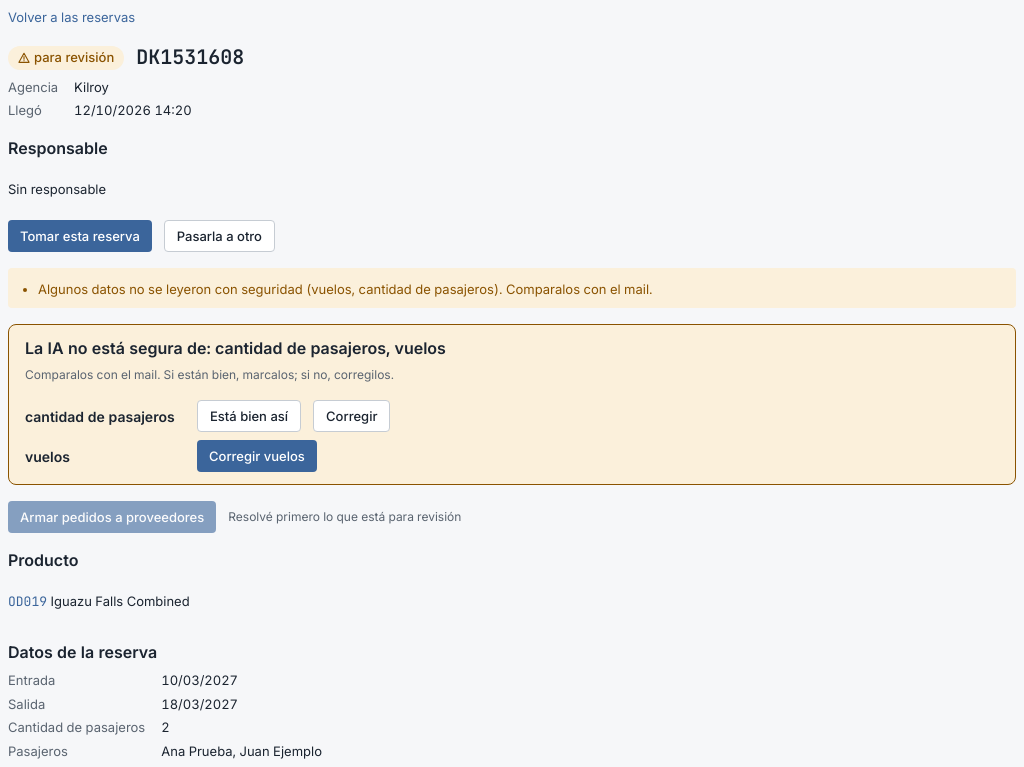
Test: M3-07 filas 4 y 5 — 'La IA no está segura de: …' › 'Está bien así' en pax lo saca de los dudosos; el 'Listo' dice por qué sigue para revisión
Click the button "Está bien así". click: (249, 416)
box: [197,400,301,432]
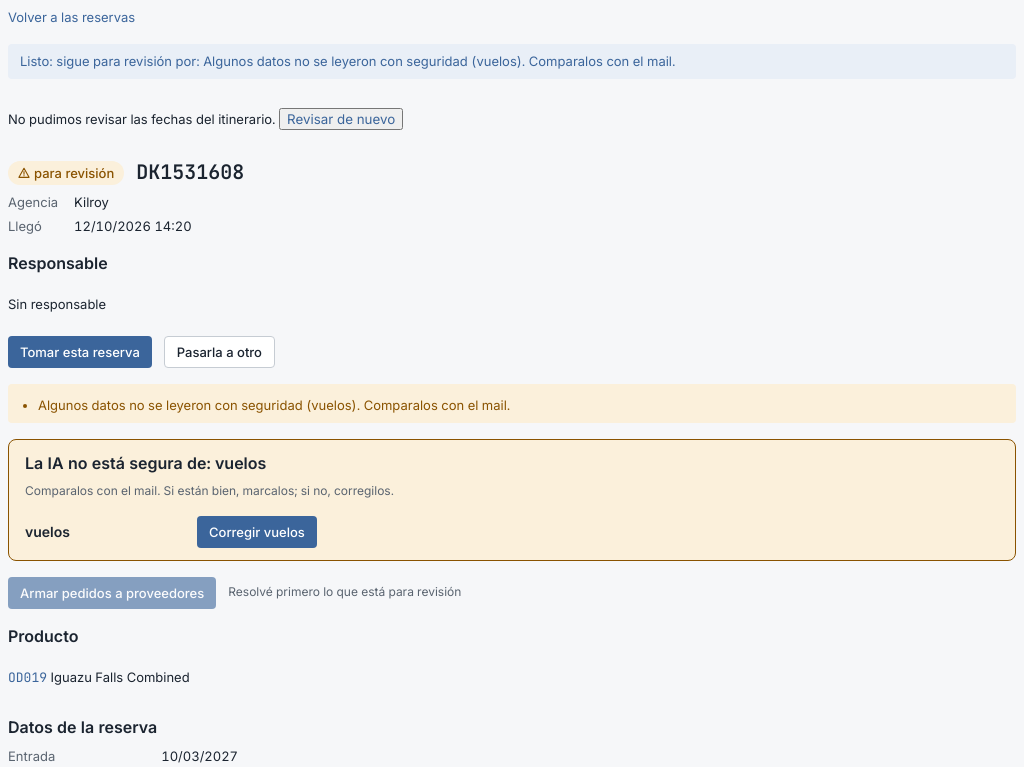
Expected: the text with test id "producto-confirmado" shows "Listo: sigue para revisión por:", [20,52,676,68]
Expected: the text with test id "producto-confirmado" shows "vuelos", [20,52,676,68]
Expected: the element "La IA no está segura de: vuelos" is shown, [8,439,1016,561]
